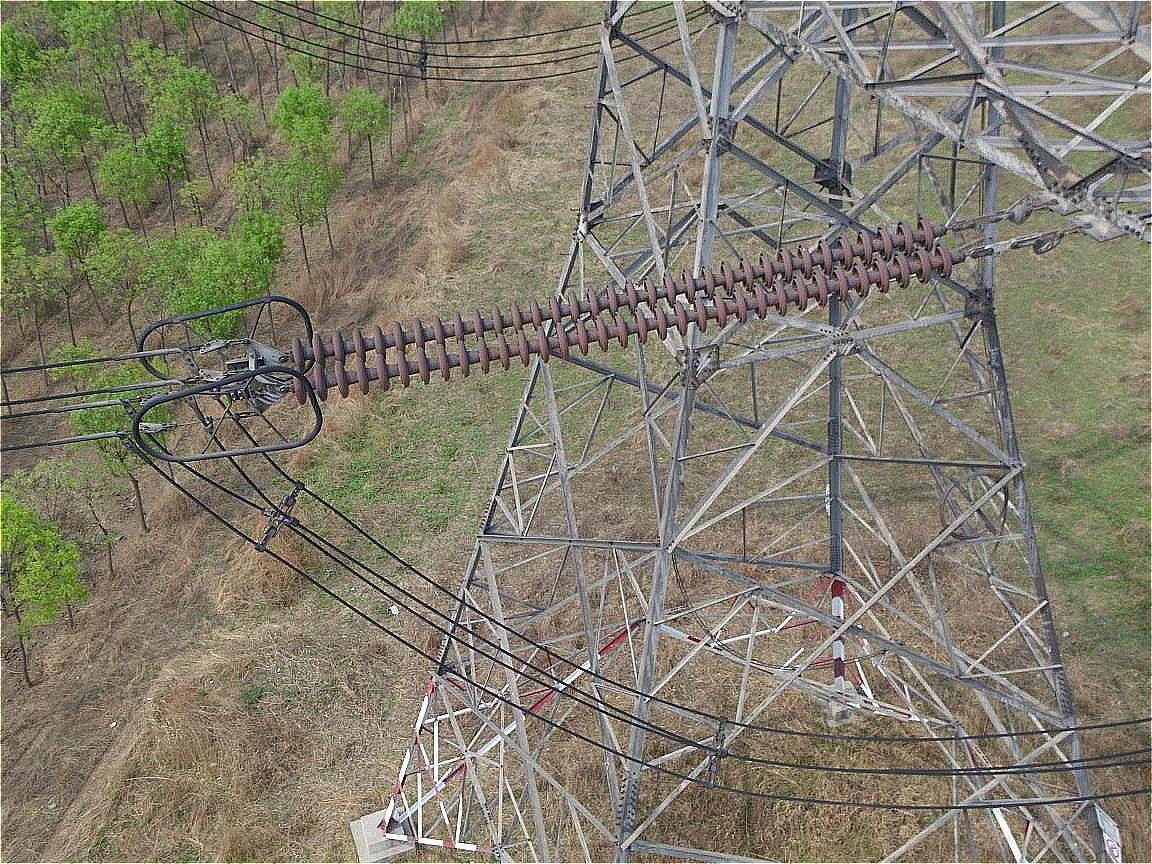insultor1: (260, 217, 968, 386)
